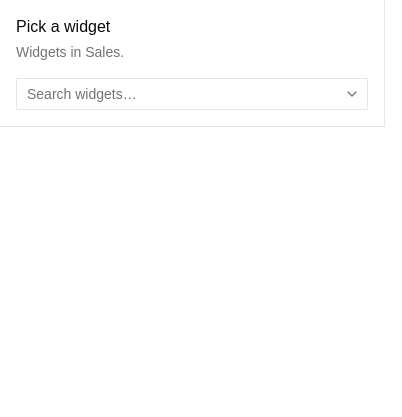
WidgetPicker combobox › paginates long lists with a "Show more" control
The width and height of the screenshot is (402, 417).
Click the dropdown labelled "Search widgets".
click(178, 94)  # box [17,78,340,110]
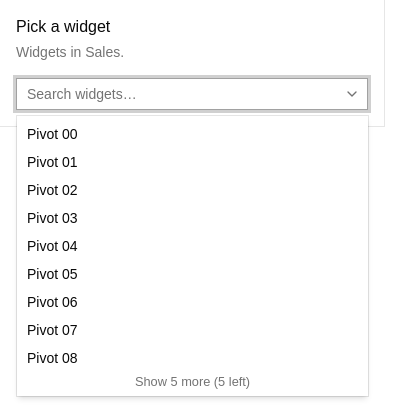
expect the button "Show 5 more (5 left)" is shown: met
Click the button "Show 5 more (5 left)".
click(192, 382)  # box [17,368,368,396]
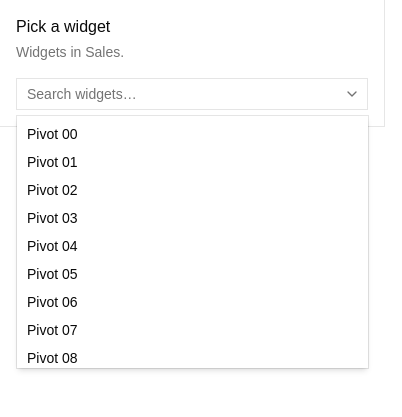
expect the button "Show 5 more (5 left)" is gone: met
